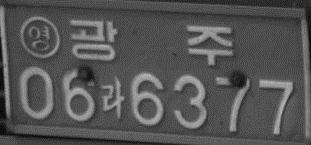0: (19, 65, 54, 120)
3: (172, 74, 207, 130)
6: (129, 72, 164, 127), (61, 69, 96, 122)
7: (214, 75, 251, 132), (257, 78, 294, 135)
광주_D: (68, 18, 234, 66)
라: (99, 75, 126, 121)
영: (19, 15, 61, 60)
